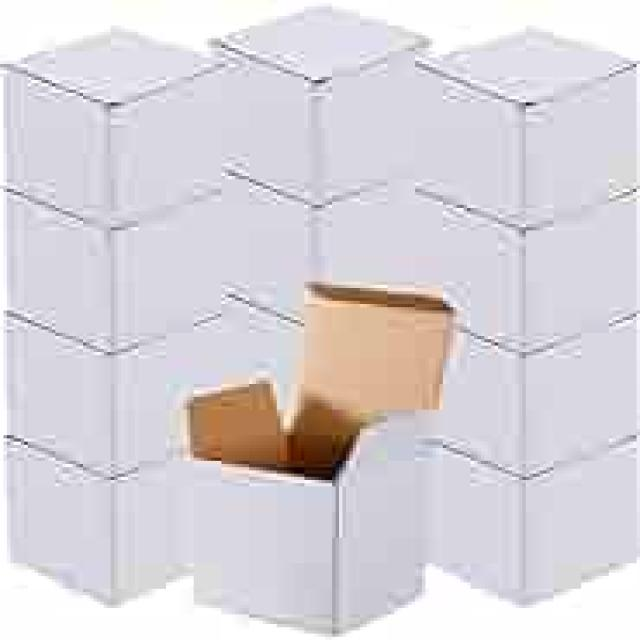Carton: (0, 3, 633, 605)
